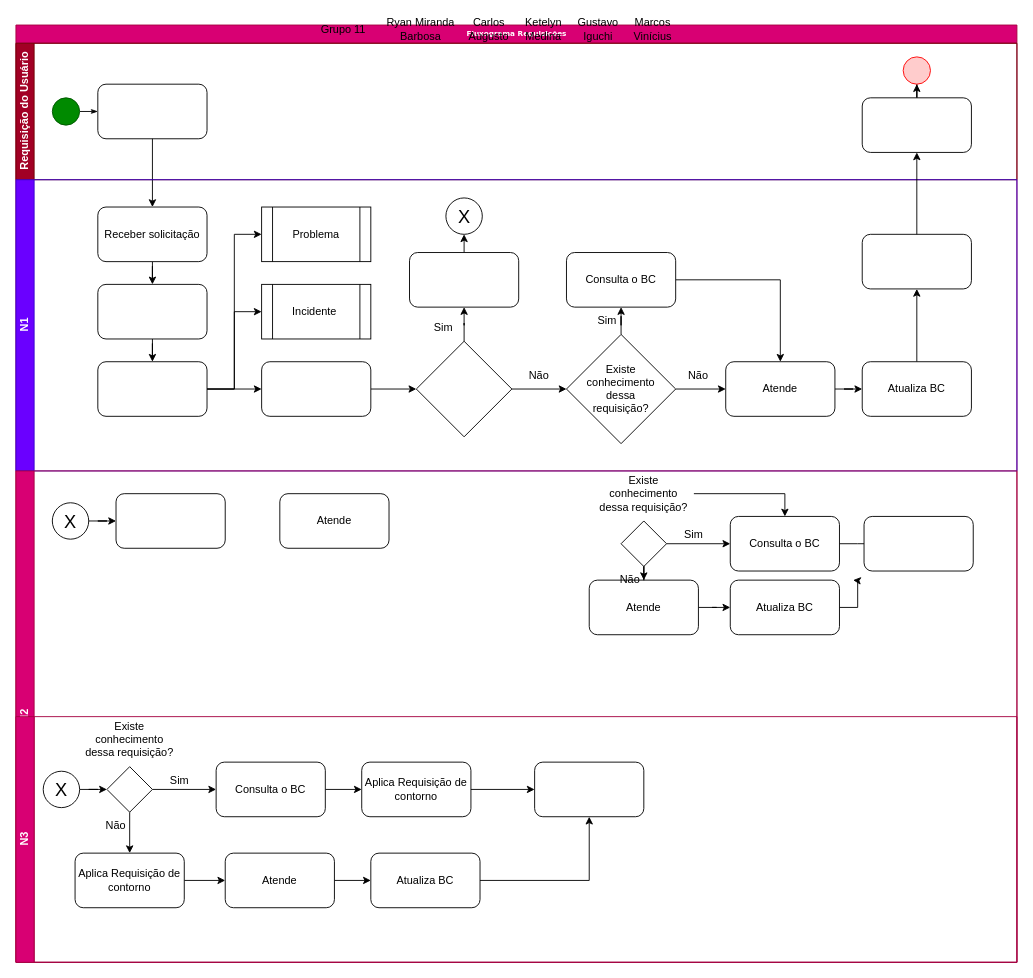
Image size: 1033x978. Some labels were removed from this diagram. The shapes that lost their labels are listed below. From the top down, each one's centre as x and y in pixels, then its label:
[152,111]: Realizar solicitação de requisito
[916,124]: Finaliza solicitação
[464,279]: Encaminha para o nível correto
[916,261]: Comunica Cliente
[152,311]: Registrar. Analisar. Priorizar.
[152,388]: Definir requisição, incidente ou problema.
[316,388]: Requisição
[463,388]: Requisição é de outro nível
[170,520]: Recebe solicitação
[918,543]: Atende solicitação usando BC
[589,789]: Requisição final
